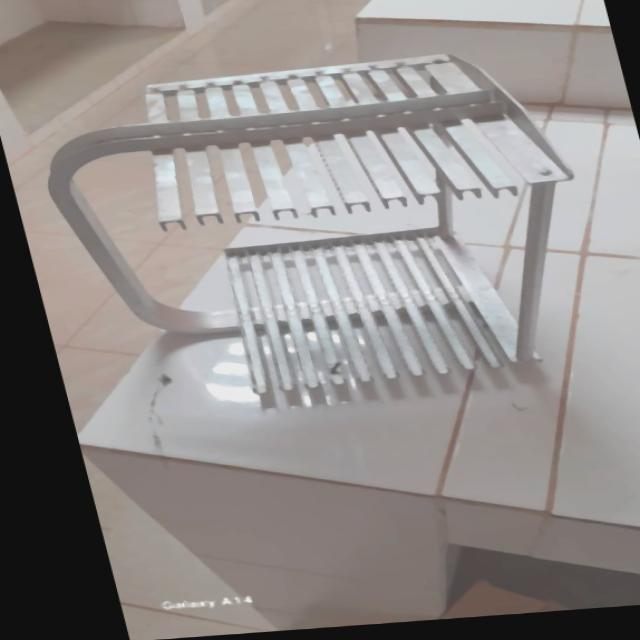Plate Rack: (17, 39, 637, 418)
